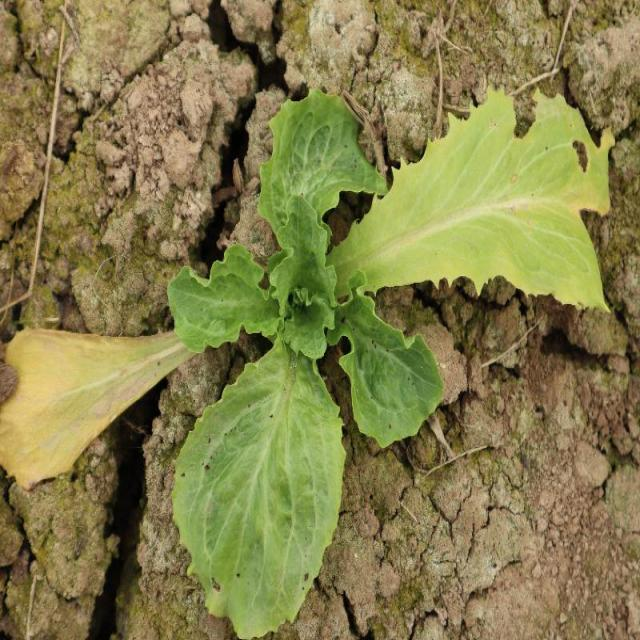crop: (165, 85, 618, 640)
